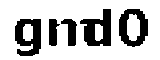0: (119, 8, 151, 51)
d: (84, 7, 116, 54)
g: (8, 16, 44, 60)
m: (44, 14, 92, 48)
